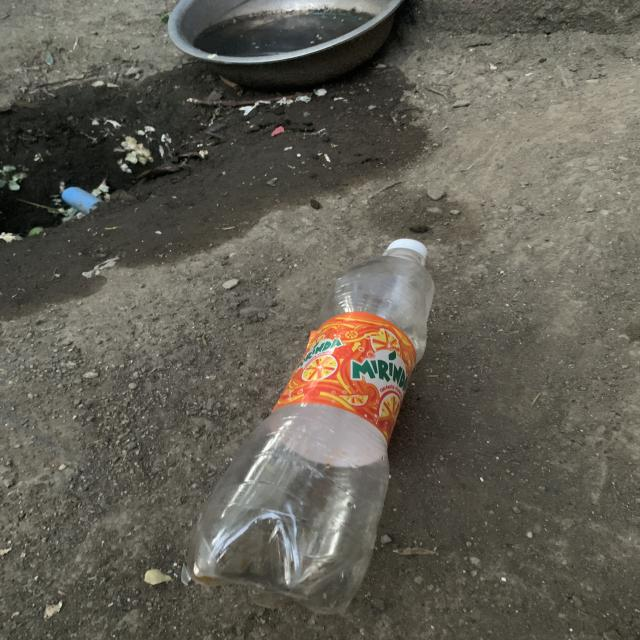Bottle: (187, 239, 434, 614)
